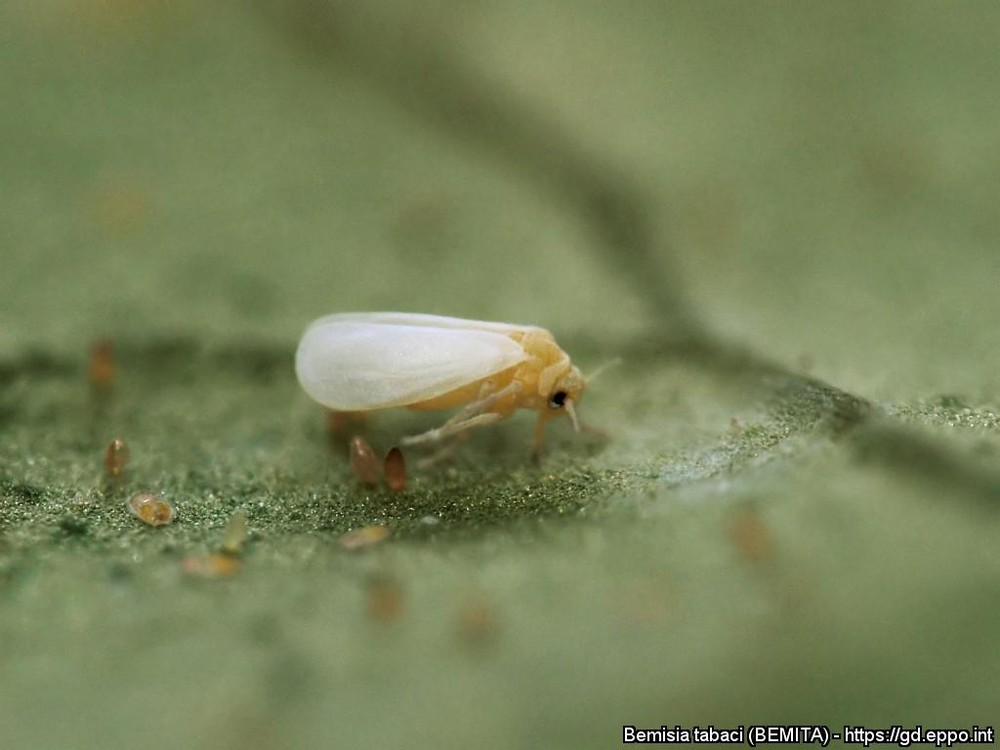Mosca Blanca: (288, 282, 627, 492)
